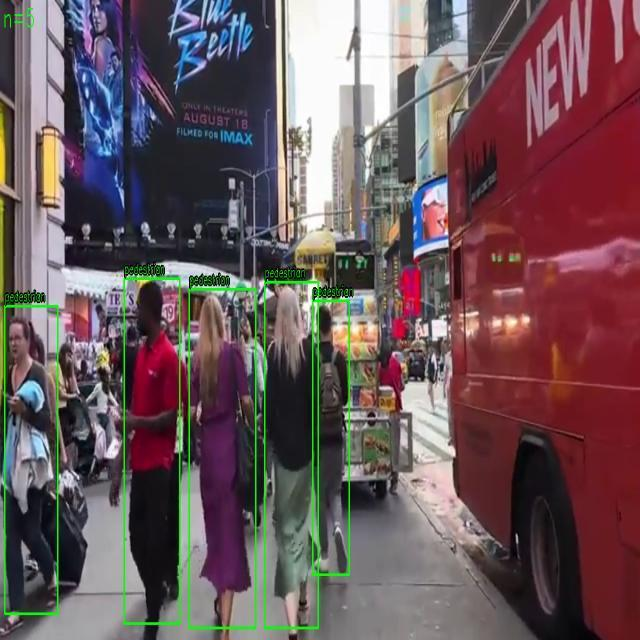person: (189, 288, 256, 628), (124, 278, 180, 624), (264, 282, 318, 628), (4, 306, 58, 614), (312, 300, 350, 576)
